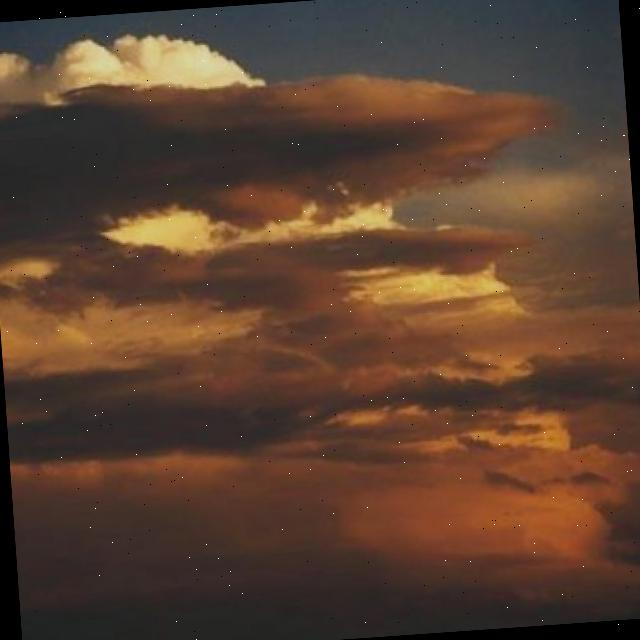Cb: (1, 1, 640, 575)
